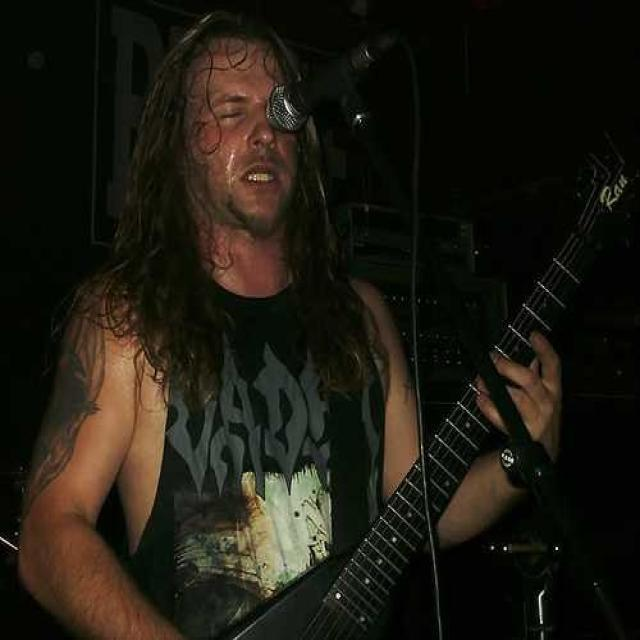microphone: (262, 27, 401, 146)
